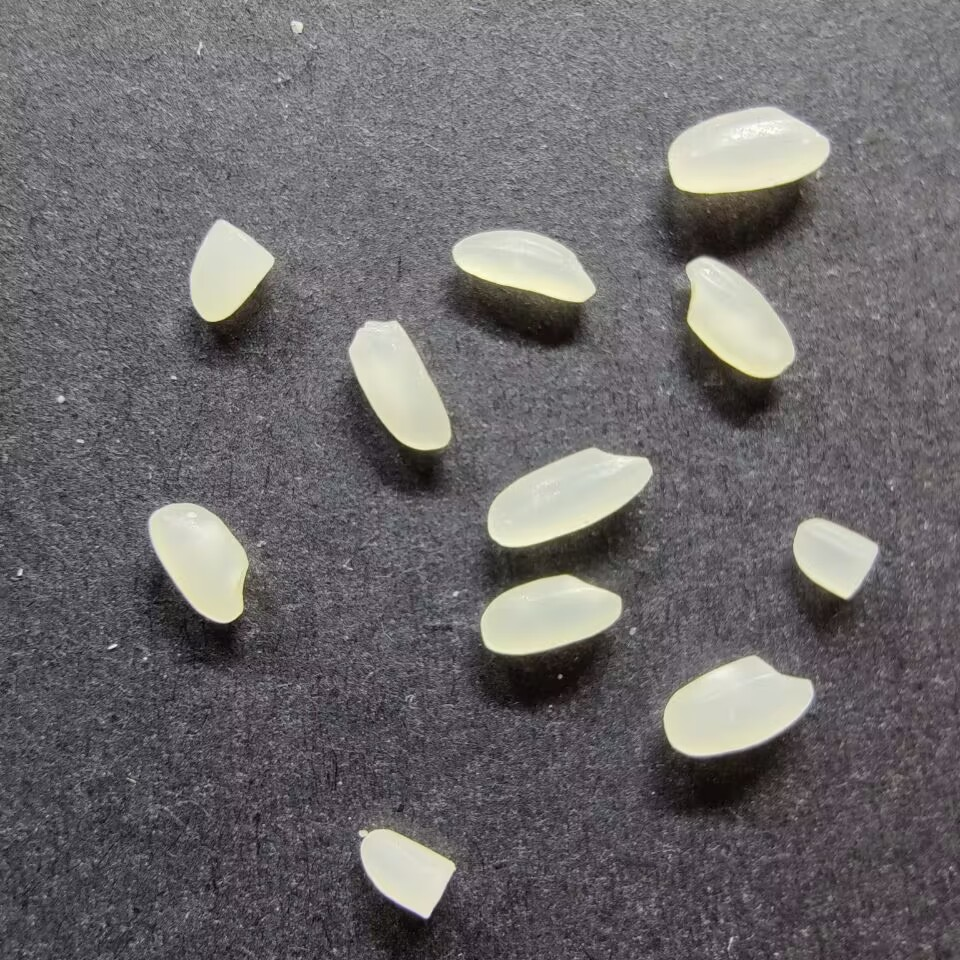broken: (186, 217, 276, 323), (359, 825, 456, 923), (792, 514, 879, 601)
rice: (485, 442, 654, 549), (664, 655, 815, 760), (665, 105, 831, 196), (347, 315, 453, 453), (684, 253, 797, 381), (146, 500, 251, 625), (478, 572, 624, 656), (450, 229, 595, 303)
